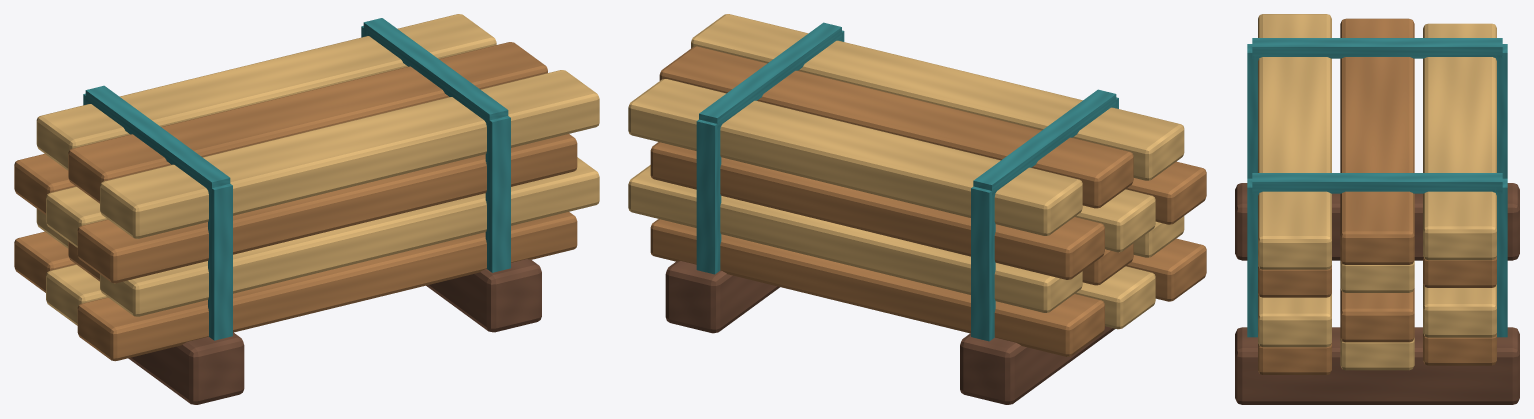
The model's file is camp-plank-pile.glb.
3 views of the same model, side by side, from view 1: azimuth 30°, elevation 25°; view 2: azimuth 150°, elevation 25°; view 3: azimuth 270°, elevation 25° (orthographic).
Visible parts, largest first — view 1: camp-plank-pile-mesh; view 2: camp-plank-pile-mesh; view 3: camp-plank-pile-mesh.
Boxes of the visible parts, <box> form: camp-plank-pile-mesh: <box>14,14,599,404</box>; camp-plank-pile-mesh: <box>628,14,1206,404</box>; camp-plank-pile-mesh: <box>1235,14,1519,404</box>.
Size of the model in its own units: 1.97 by 0.8225 by 1.
1 material, 1 textured.
